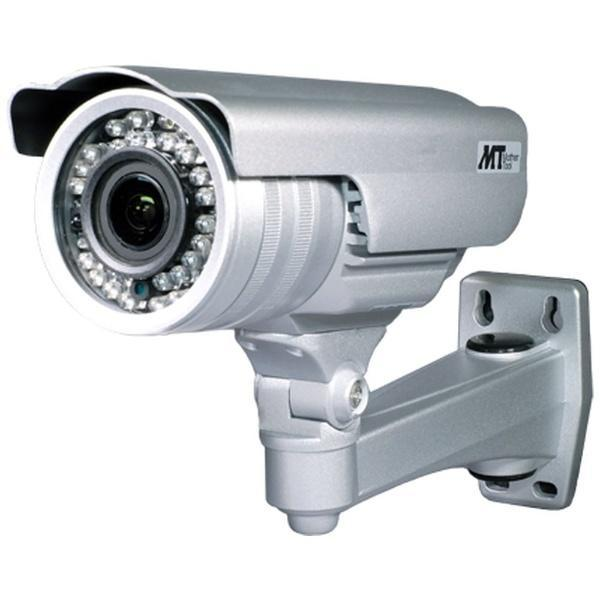tutu: (8, 66, 595, 538)
